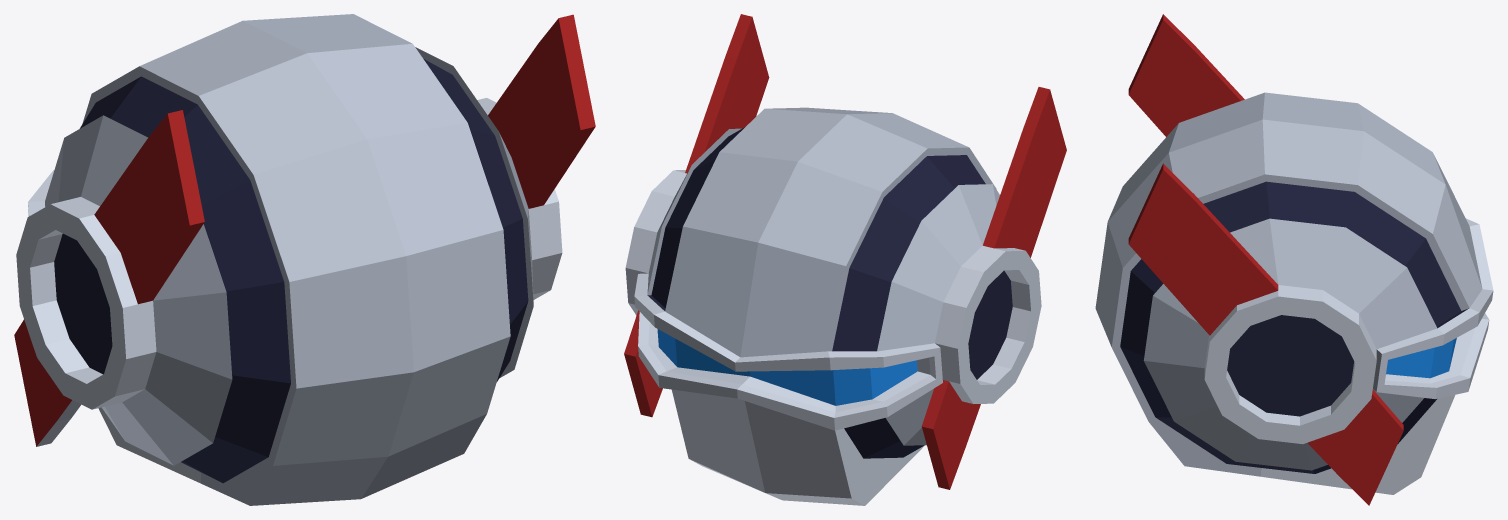
File: Rush_Head.obj
3 renders of one model, left to right at view 1: azimuth 30°, elevation 25°; view 2: azimuth 150°, elevation 25°; view 3: azimuth 270°, elevation 25°, orthographic. The views are drawn at different scales.
Visible parts, largest first — view 1: sphere; view 2: sphere; view 3: sphere.
Boxes of the visible parts, x1,y1,x2,y2 form: sphere: [14, 14, 595, 505]; sphere: [624, 14, 1066, 505]; sphere: [1095, 14, 1493, 505].
Size of the model in its own units: 0.4023 by 0.4234 by 0.4056.
1 material, 1 textured.
